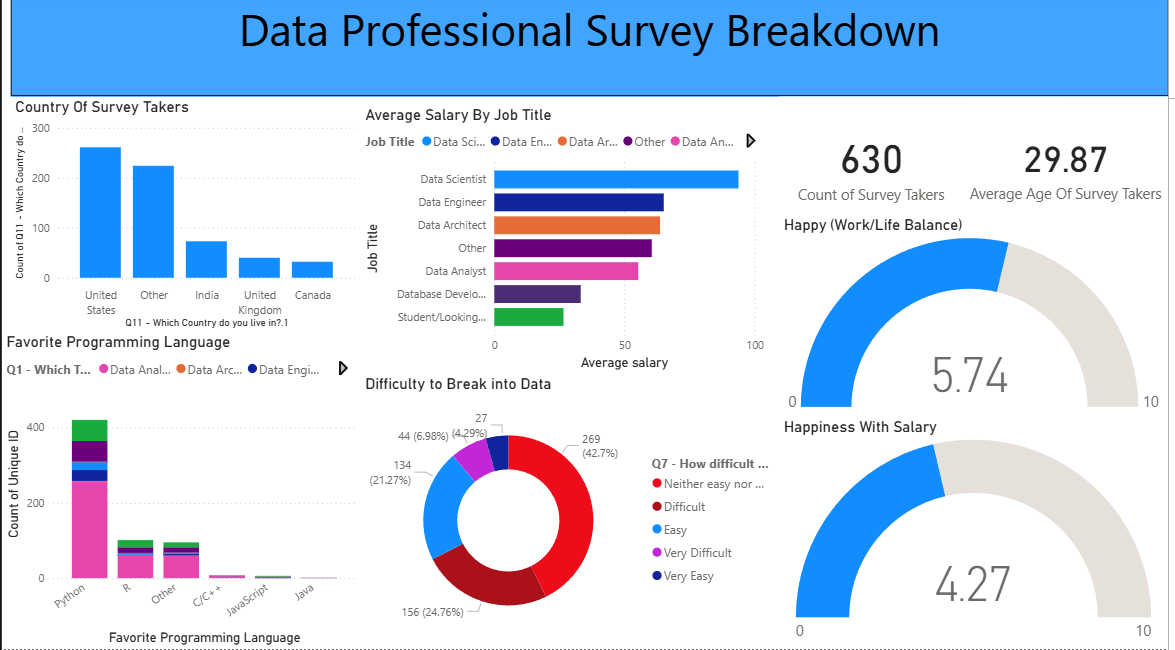

What the dashboard file says about the page in this screenshot:
{"tool":"powerbi","page":{"name":"Page 1","canvas":[1280,720],"ordinal":0},"visuals":[{"type":"textbox","box":[9.6,0,1270.7,112.5],"z":0},{"type":"card","fields":{"Values":["CountNonNull(Data Professional Survey (2).Unique ID)"]},"box":[853.5,112.5,201.7,150.9],"z":1000},{"type":"card","fields":{"Values":["Avg(Data Professional Survey (2).Q10 - Current Age)"]},"box":[1055.2,112.5,225,150.9],"z":2000},{"type":"barChart","title":"Average Salary By Job Title","fields":{"Y":["Avg(Data Professional Survey (2).Average_salary)"],"Series":["Data Professional Survey (2).Q1 - Which Title Best Fits your Current Role?.1"],"Category":["Data Professional Survey (2).Q1 - Which Title Best Fits your Current Role?.1"]},"box":[393.6,122.2,447.6,295.6],"z":3000},{"type":"columnChart","title":"Favorite Programming Language","fields":{"Category":["Data Professional Survey (2).Q5 - Favorite Programming Language.1"],"Y":["CountNonNull(Data Professional Survey (2).Unique ID)"],"Series":["Data Professional Survey (2).Q1 - Which Title Best Fits your Current Role?.1"]},"box":[0,372.3,393.6,348.1],"z":4000},{"type":"columnChart","title":"Country Of Survey Takers","fields":{"Y":["CountNonNull(Data Professional Survey (2).Q11 - Which Country do you live in?.1)"],"Category":["Data Professional Survey (2).Q11 - Which Country do you live in?.1"]},"box":[9.9,113.7,383.7,258.6],"z":5000},{"type":"gauge","title":"Happy  (Work/Life Balance)","fields":{"Y":["Avg(Data Professional Survey (2).Q6 - How Happy are you in your Current Position with the following? (Work/Life Balance)"],"MinValue":["Min(Data Professional Survey (2).Q6 - How Happy are you in your Current Position with the following? (Work/Life Balance)"],"MaxValue":["Max(Data Professional Survey (2).Q6 - How Happy are you in your Current Position with the following? (Work/Life Balance)"]},"box":[854,243,426.3,221.7],"z":6000},{"type":"gauge","title":"Happiness With Salary","fields":{"Y":["Avg(Data Professional Survey (2).Q6 - How Happy are you in your Current Position with the following? (Salary))"],"MinValue":["Min(Data Professional Survey (2).Q6 - How Happy are you in your Current Position with the following? (Salary))"],"MaxValue":["Max(Data Professional Survey (2).Q6 - How Happy are you in your Current Position with the following? (Salary))"]},"box":[854,464.7,426.3,255.8],"z":7000},{"type":"donutChart","title":"Difficulty to Break into Data","fields":{"Category":["Data Professional Survey (2).Q7 - How difficult was it for you to break into Data?"],"Series":["Data Professional Survey (2).Q7 - How difficult was it for you to break into Data?"],"Y":["CountNonNull(Data Professional Survey (2).Q7 - How difficult was it for you to break into Data?)"]},"box":[393.6,417.8,460.4,302.7],"z":8000}]}

Visuals, with their boxes in screenshot pixels (x1, y1, x2, y2), scaled from the page's 1280x720 canvas onto the 1175x650 screenshot:
textbox: bbox=(9, 0, 1174, 102)
card - CountNonNull(Data Professional Survey (2).Unique ID): bbox=(783, 102, 969, 238)
card - Avg(Data Professional Survey (2).Q10 - Current Age): bbox=(969, 102, 1174, 238)
"Average Salary By Job Title" barChart: bbox=(361, 110, 772, 377)
"Favorite Programming Language" columnChart: bbox=(0, 336, 361, 649)
"Country Of Survey Takers" columnChart: bbox=(9, 103, 361, 336)
"Happy  (Work/Life Balance)" gauge: bbox=(784, 219, 1174, 420)
"Happiness With Salary" gauge: bbox=(784, 420, 1174, 649)
"Difficulty to Break into Data" donutChart: bbox=(361, 377, 784, 649)
